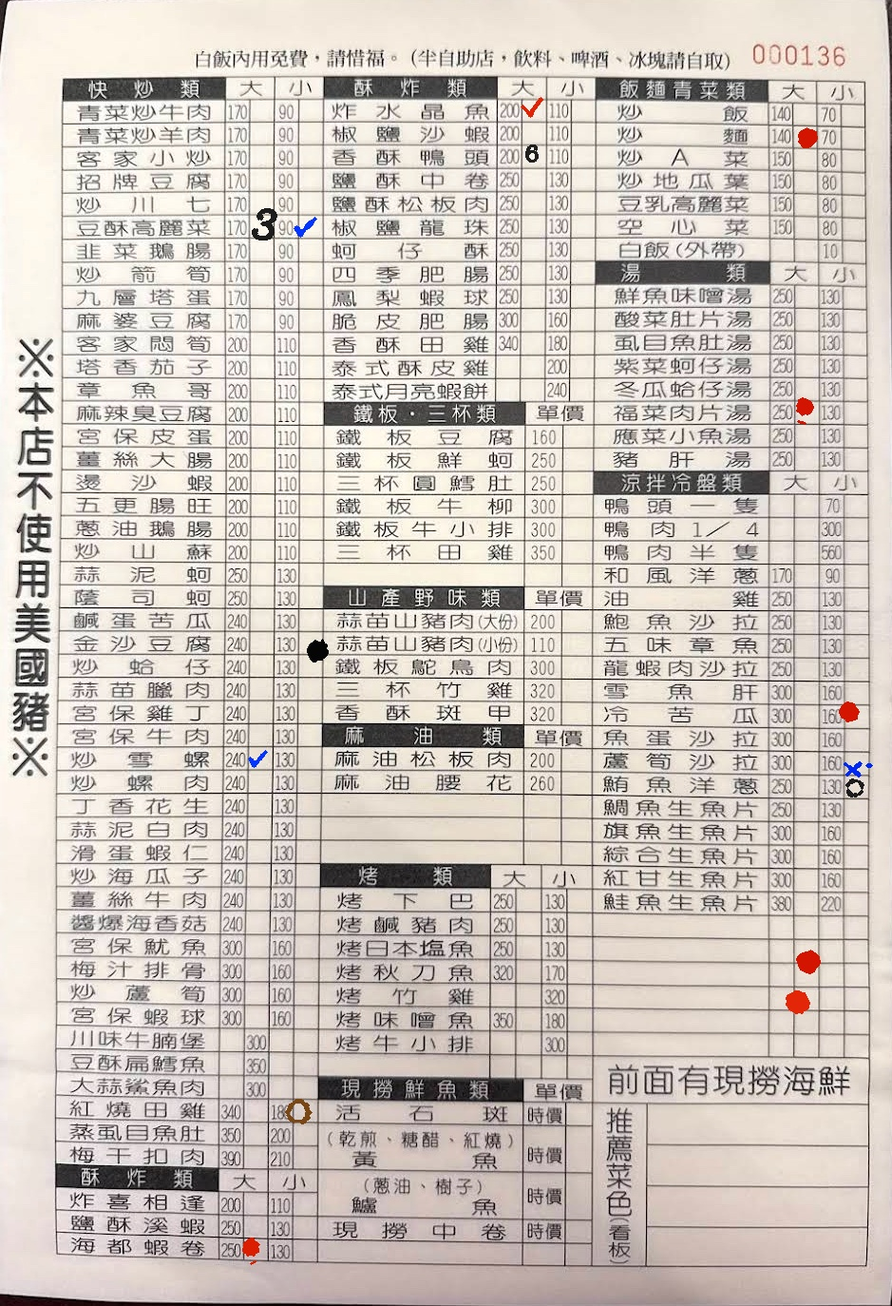marked_circle: (794, 400, 820, 423), (296, 632, 322, 655), (793, 938, 819, 961), (844, 701, 869, 724), (241, 1239, 267, 1261), (794, 988, 820, 1010), (792, 125, 818, 147)
marked_hollow: (293, 1101, 318, 1124), (844, 774, 869, 797)
marked_number_3: (247, 214, 273, 237)
marked_number_6: (522, 144, 547, 167)
marked_tick: (247, 746, 273, 769), (298, 216, 324, 239), (521, 98, 546, 121)
marked_x: (845, 752, 870, 775)
